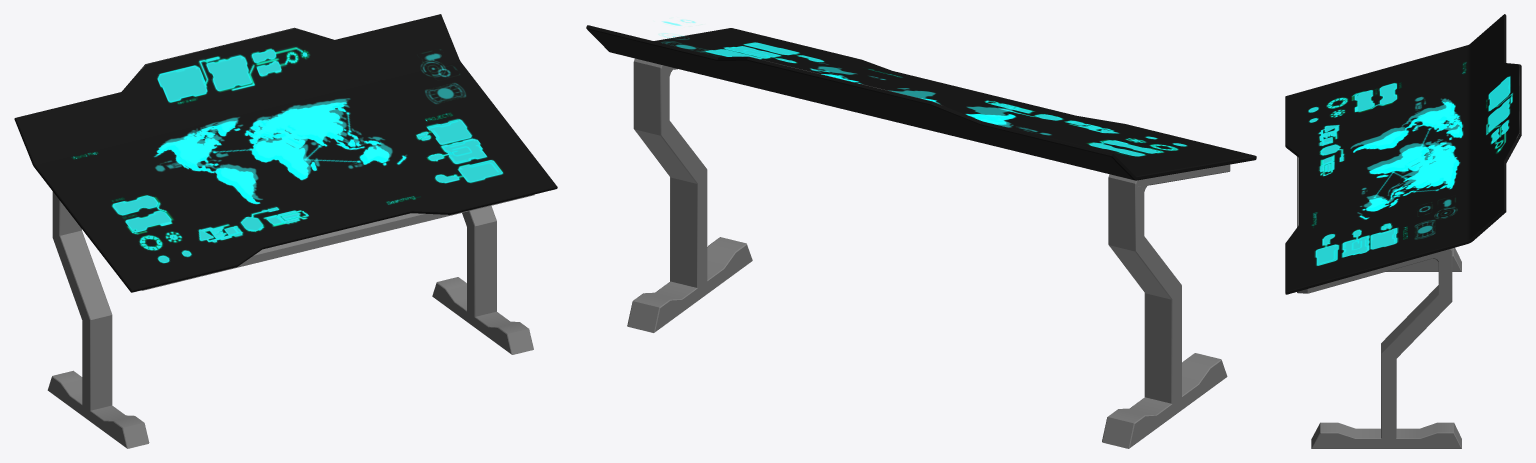
The model's file is table.glb.
The picture shows the model from 3 angles, left to right: view 1: azimuth 30°, elevation 25°; view 2: azimuth 150°, elevation 25°; view 3: azimuth 270°, elevation 25°; orthographic projection. The views are drawn at different scales.
Visible parts, largest first — view 1: pPlane4_Tb_0.002, pPlane3_Tb_0.002, pPlane8_Tb_0.001; view 2: pPlane4_Tb_0.002, pPlane3_Tb_0.002, pPlane8_Tb_0.001; view 3: pPlane4_Tb_0.002, pPlane3_Tb_0.002, pPlane8_Tb_0.001.
Part boxes in pixels (<box>): pPlane4_Tb_0.002: <box>14,14,557,292</box>; pPlane3_Tb_0.002: <box>47,191,534,448</box>; pPlane8_Tb_0.001: <box>155,98,406,199</box>; pPlane4_Tb_0.002: <box>586,25,1256,180</box>; pPlane3_Tb_0.002: <box>627,58,1230,448</box>; pPlane8_Tb_0.001: <box>810,66,1051,135</box>; pPlane4_Tb_0.002: <box>1285,14,1521,294</box>; pPlane3_Tb_0.002: <box>1297,156,1461,448</box>; pPlane8_Tb_0.001: <box>1350,97,1459,214</box>.
Bounding box in the file's own units: 2.35 × 1.44 × 1.2.
Materials: 2 (1 with a texture image).
